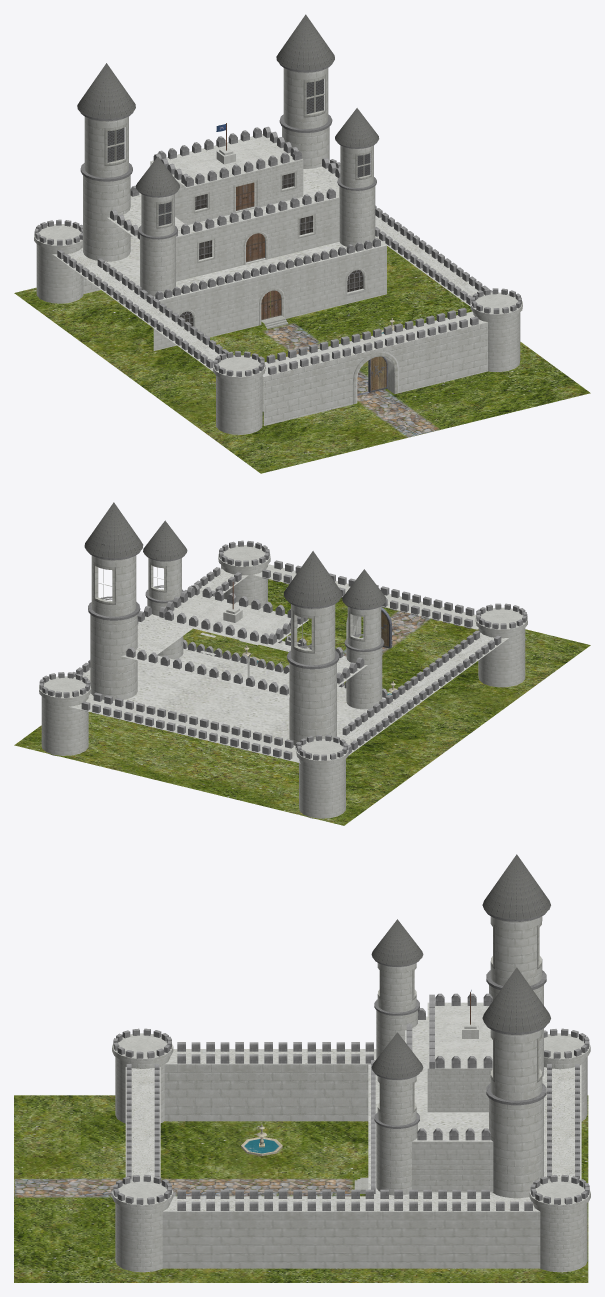
File: Castle.glb
The picture shows the model from 3 angles, top to bottom: view 1: azimuth 30°, elevation 25°; view 2: azimuth 150°, elevation 25°; view 3: azimuth 270°, elevation 25°; orthographic projection. The views are drawn at different scales.
Parts seen in each view (by area): view 1: Ground_and_Fountain, Castle_Exterior, Castle_Interior, Towers_Doors_and_Windows; view 2: Ground_and_Fountain, Castle_Exterior, Towers_Doors_and_Windows, Castle_Interior; view 3: Castle_Exterior, Ground_and_Fountain, Towers_Doors_and_Windows, Castle_Interior.
Boxes of the visible parts, left/top/right/bottom form: Ground_and_Fountain: left=14, top=246, right=590, bottom=473; Castle_Exterior: left=34, top=159, right=522, bottom=434; Castle_Interior: left=81, top=123, right=386, bottom=350; Towers_Doors_and_Windows: left=77, top=14, right=387, bottom=395; Ground_and_Fountain: left=14, top=579, right=590, bottom=825; Castle_Exterior: left=39, top=540, right=527, bottom=818; Towers_Doors_and_Windows: left=84, top=502, right=392, bottom=745; Castle_Interior: left=89, top=581, right=387, bottom=746; Castle_Exterior: left=112, top=1028, right=590, bottom=1272; Ground_and_Fountain: left=14, top=1095, right=588, bottom=1282; Towers_Doors_and_Windows: left=354, top=854, right=550, bottom=1198; Castle_Interior: left=368, top=990, right=544, bottom=1196.
Bounding box in the file's own units: 58.11 × 40.26 × 75.6.
Materials: 4 (4 with a texture image).
